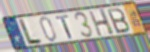0: (39, 15, 58, 43)
3: (74, 11, 95, 40)
B: (106, 7, 131, 35)
H: (87, 8, 116, 38)
L: (18, 18, 44, 47)
T: (54, 14, 74, 40)
